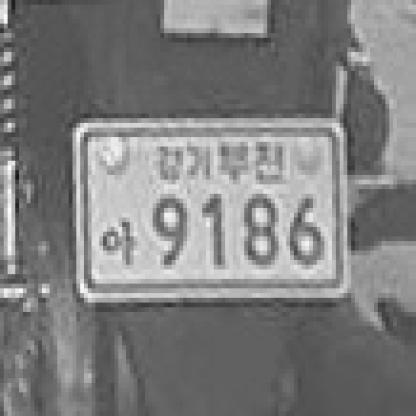bnum: (72, 115, 356, 304)
